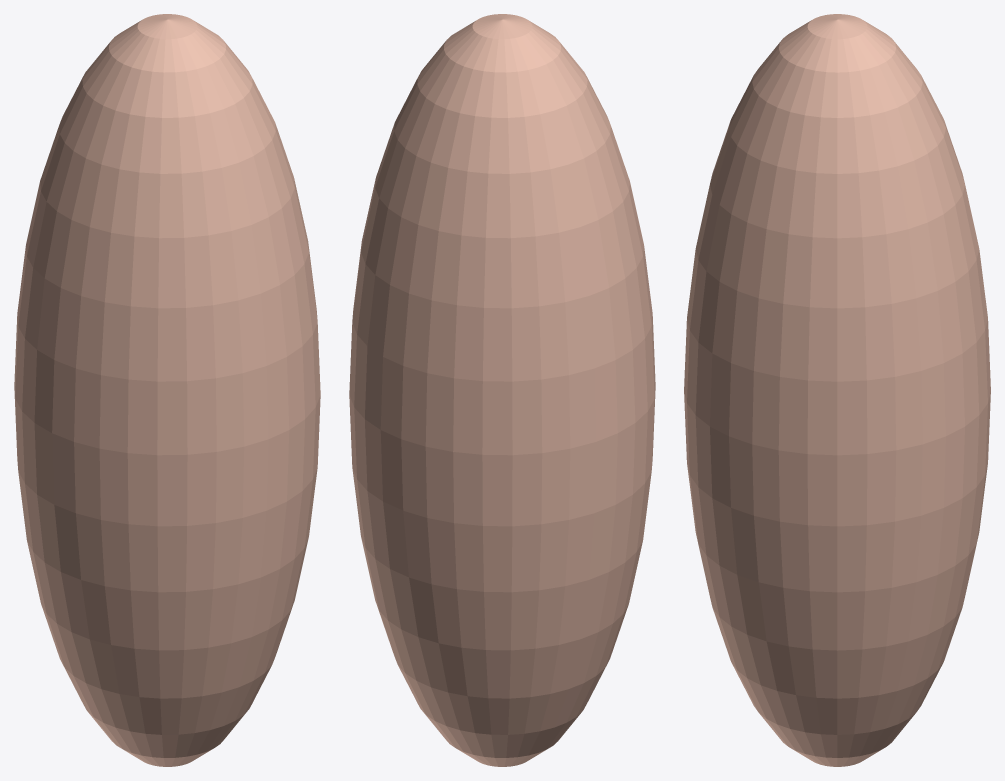
File: PlayerArm.fbx
3 views of the same model, side by side, from view 1: azimuth 30°, elevation 25°; view 2: azimuth 150°, elevation 25°; view 3: azimuth 270°, elevation 25° (orthographic).
Parts seen in each view (by area): view 1: Sphere; view 2: Sphere; view 3: Sphere.
Part boxes in pixels (left/top/right/bottom): Sphere: left=14, top=14, right=320, bottom=766; Sphere: left=349, top=14, right=655, bottom=766; Sphere: left=684, top=14, right=990, bottom=766.
Size of the model in its own units: 150 by 400 by 150.
